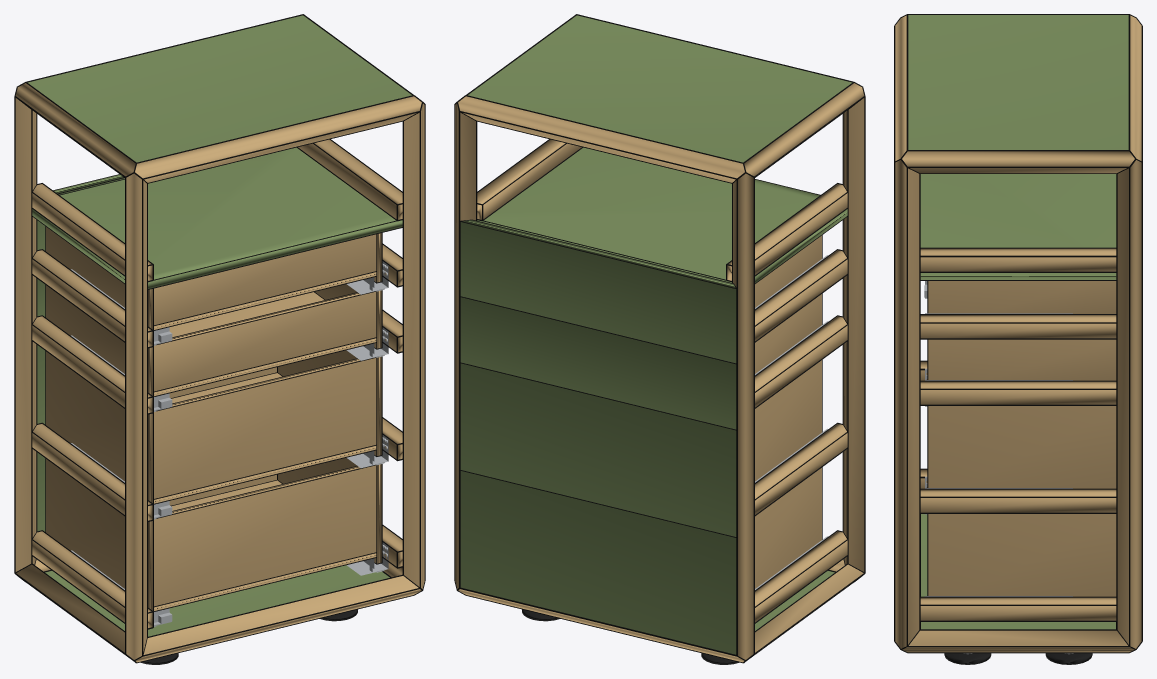
Rendered from 004-servante-a3.glb.
The picture shows the model from 3 angles, left to right: view 1: azimuth 30°, elevation 25°; view 2: azimuth 150°, elevation 25°; view 3: azimuth 270°, elevation 25°; orthographic projection.
Visible parts, largest first — view 1: panneau-dessus_exterieur, tablette-plate-mod-4, drawer-box-avant-mod-1, drawer-box-avant-mod-0, drawer-box-avant-mod-2, arete-Z0, arete-Z2, arete-Z1, drawer-box-avant-mod-3, drawer-box-joue_g-mod-1, drawer-box-joue_g-mod-0, arete-X2 (+43 smaller); view 2: drawer-box-facade-mod-0, drawer-box-facade-mod-1, panneau-dessus_exterieur, tablette-plate-mod-4, drawer-box-facade-mod-3, drawer-box-facade-mod-2, arete-Z0, arete-Z2, arete-X3, drawer-box-joue_g-mod-0, drawer-box-joue_g-mod-1, arete-Z3 (+24 smaller); view 3: panneau-dessus_exterieur, tablette-plate-mod-4, drawer-box-joue_d-mod-0, drawer-box-joue_d-mod-1, arete-Z1, arete-Z3, drawer-box-joue_d-mod-2, drawer-box-joue_d-mod-3, arete-Y3, drawer-tr-drawer-traverse-right-mod-3, arete-Y1, drawer-tr-drawer-traverse-right-mod-0 (+20 smaller).
Part boxes in pixels (bbox=[...]): panneau-dessus_exterieur: bbox=[27, 15, 411, 162]; tablette-plate-mod-4: bbox=[32, 147, 402, 288]; drawer-box-avant-mod-1: bbox=[154, 358, 376, 498]; drawer-box-avant-mod-0: bbox=[154, 465, 376, 606]; drawer-box-avant-mod-2: bbox=[154, 291, 376, 391]; arete-Z0: bbox=[126, 173, 146, 659]; arete-Z2: bbox=[15, 98, 36, 571]; arete-Z1: bbox=[404, 103, 424, 588]; drawer-box-avant-mod-3: bbox=[154, 234, 376, 325]; drawer-box-joue_g-mod-1: bbox=[46, 351, 152, 502]; drawer-box-joue_g-mod-0: bbox=[46, 459, 152, 610]; arete-X2: bbox=[135, 96, 421, 182]; drawer-box-facade-mod-0: bbox=[460, 471, 736, 654]; drawer-box-facade-mod-1: bbox=[460, 363, 736, 536]; panneau-dessus_exterieur: bbox=[468, 15, 852, 162]; tablette-plate-mod-4: bbox=[477, 147, 847, 282]; drawer-box-facade-mod-3: bbox=[460, 220, 736, 363]; drawer-box-facade-mod-2: bbox=[460, 297, 736, 429]; arete-Z0: bbox=[843, 98, 864, 571]; arete-Z2: bbox=[733, 173, 753, 659]; arete-X3: bbox=[458, 96, 744, 182]; drawer-box-joue_g-mod-0: bbox=[755, 468, 821, 588]; drawer-box-joue_g-mod-1: bbox=[755, 360, 821, 481]; arete-Z3: bbox=[455, 103, 475, 588]; panneau-dessus_exterieur: bbox=[908, 15, 1128, 149]; tablette-plate-mod-4: bbox=[920, 174, 1116, 279]; drawer-box-joue_d-mod-0: bbox=[928, 514, 1116, 596]; drawer-box-joue_d-mod-1: bbox=[928, 406, 1116, 488]; arete-Z1: bbox=[895, 160, 919, 648]; arete-Z3: bbox=[1117, 160, 1141, 648]; drawer-box-joue_d-mod-2: bbox=[928, 339, 1116, 380]; drawer-box-joue_d-mod-3: bbox=[928, 281, 1116, 313]; arete-Y3: bbox=[902, 151, 1134, 173]; drawer-tr-drawer-traverse-right-mod-3: bbox=[920, 315, 1116, 338]; arete-Y1: bbox=[902, 630, 1134, 652]; drawer-tr-drawer-traverse-right-mod-0: bbox=[920, 597, 1116, 620].
Size of the model in its own units: 0.5938 by 0.9945 by 0.4238.
